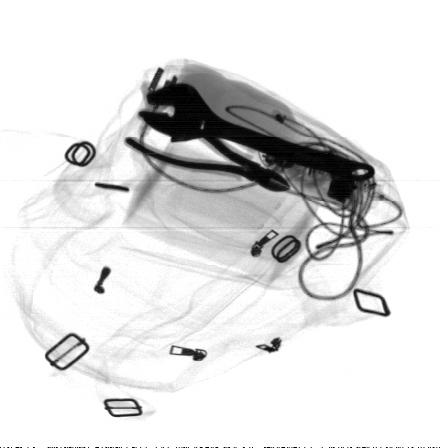Pliers: (123, 109, 293, 193)
Wrench: (136, 81, 374, 183)
